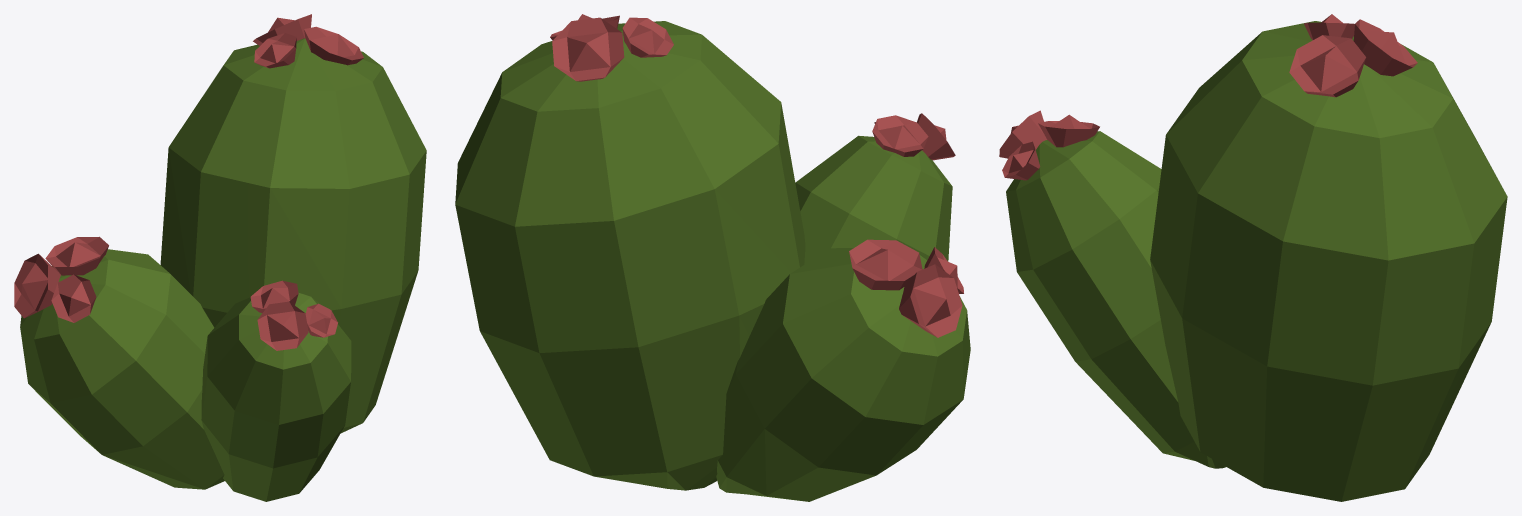
The model's file is Desert_plant_002.glb.
3 views of the same model, side by side, from view 1: azimuth 30°, elevation 25°; view 2: azimuth 150°, elevation 25°; view 3: azimuth 270°, elevation 25° (orthographic). The views are drawn at different scales.
Visible parts, largest first — view 1: Desert_plant_002; view 2: Desert_plant_002; view 3: Desert_plant_002.
Boxes of the visible parts, bbox=[...] form: Desert_plant_002: bbox=[14, 14, 426, 501]; Desert_plant_002: bbox=[455, 14, 970, 501]; Desert_plant_002: bbox=[999, 14, 1507, 501].
Bounding box in the file's own units: 0.9652 × 0.9289 × 0.8799.
1 material, 1 textured.
